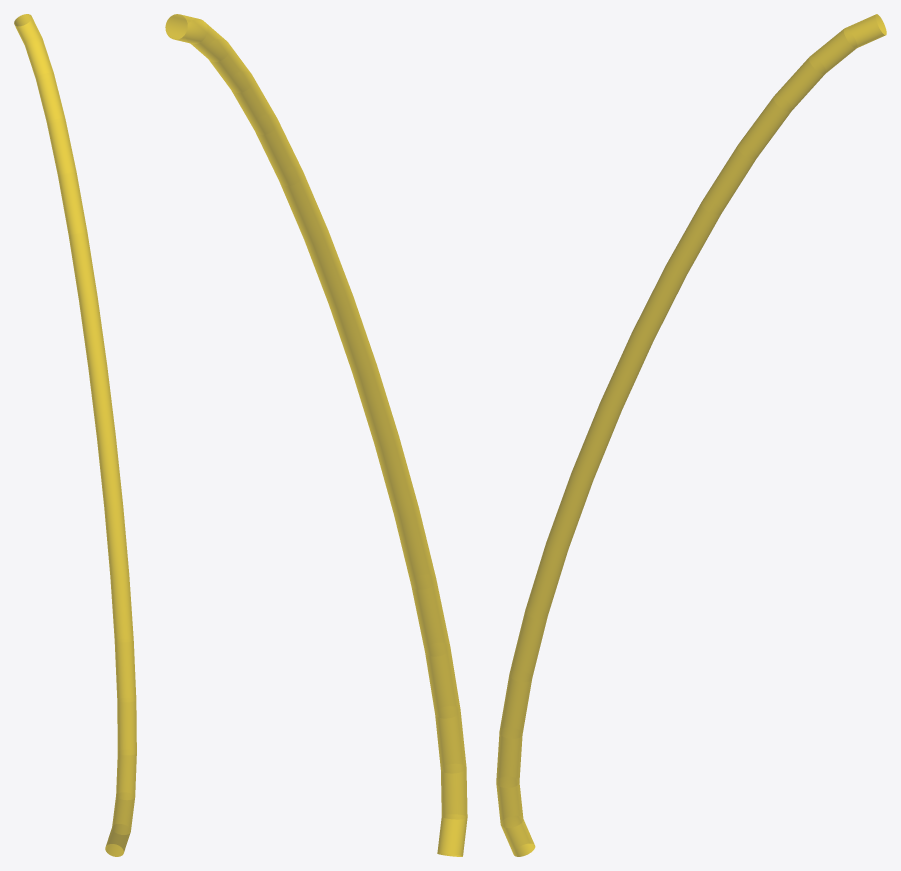
File: Event_15818458_track_30.fbx
3 renders of one model, left to right at view 1: azimuth 30°, elevation 25°; view 2: azimuth 150°, elevation 25°; view 3: azimuth 270°, elevation 25°, orthographic. The views are drawn at different scales.
Visible parts, largest first — view 1: Model; view 2: Model; view 3: Model.
Boxes of the visible parts, x1,y1,x2,y2 form: Model: [14, 14, 136, 856]; Model: [165, 14, 467, 856]; Model: [496, 14, 886, 856].
Size of the model in its own units: 0.1731 by 1.65 by 0.669.
